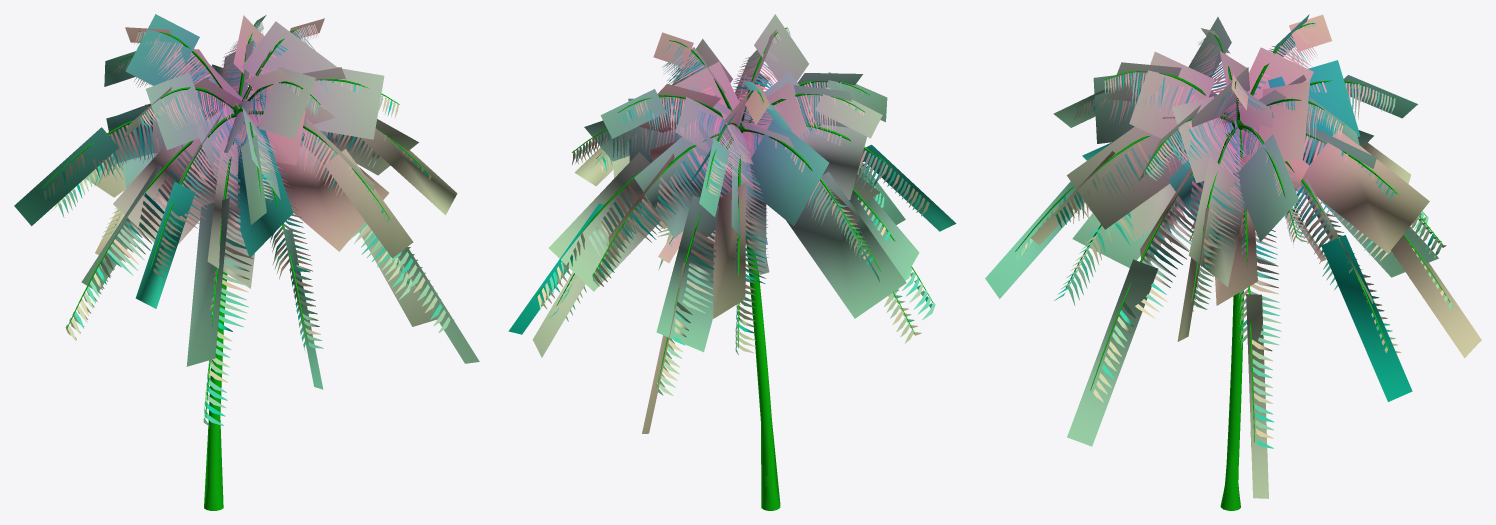
The model's file is coconut_3.glb.
The picture shows the model from 3 angles, left to right: view 1: azimuth 30°, elevation 25°; view 2: azimuth 150°, elevation 25°; view 3: azimuth 270°, elevation 25°; orthographic projection. The views are drawn at different scales.
Parts seen in each view (by area): view 1: mid, near; view 2: mid, near; view 3: mid, near.
Boxes of the visible parts, bbox=[...] form: mid: bbox=[14, 14, 479, 509]; near: bbox=[42, 21, 454, 510]; mid: bbox=[508, 14, 956, 510]; near: bbox=[536, 27, 935, 510]; mid: bbox=[985, 14, 1481, 509]; near: bbox=[1013, 23, 1452, 510].
Size of the model in its own units: 12.02 by 13.86 by 12.92.
